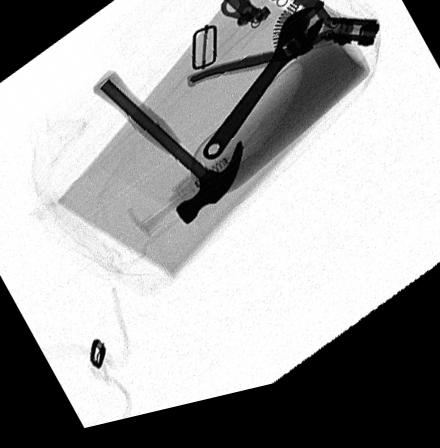Hammer: (84, 70, 243, 233)
Pliers: (184, 0, 381, 95)
Wrench: (203, 17, 322, 171)
